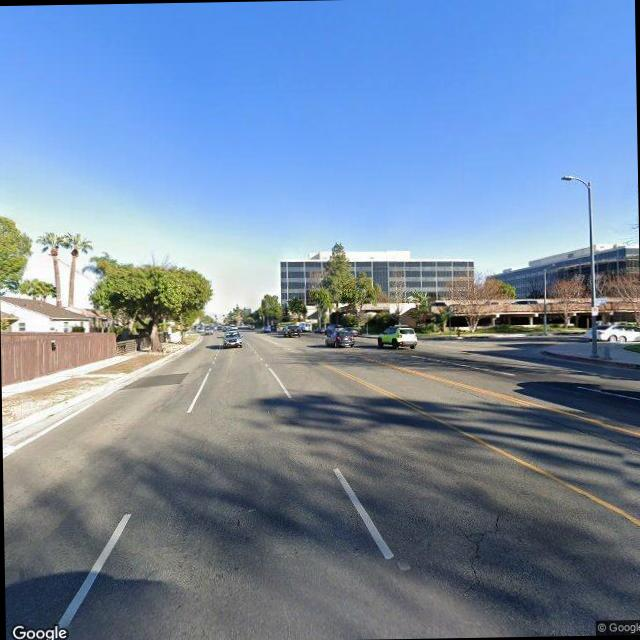pothole: (458, 502, 508, 594)
